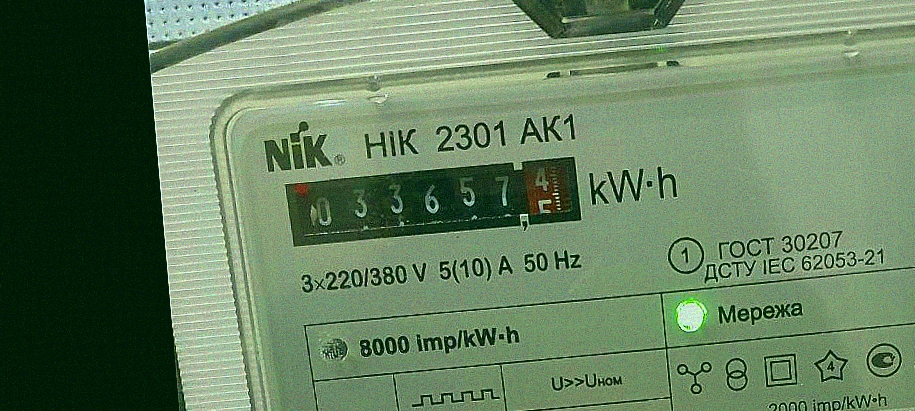0: (311, 192, 335, 230)
3: (349, 185, 370, 221), (384, 181, 405, 217)
4: (530, 163, 552, 194)
5: (454, 172, 479, 210)
6: (418, 180, 441, 217)
7: (491, 171, 512, 209)
screen: (271, 148, 590, 256)
